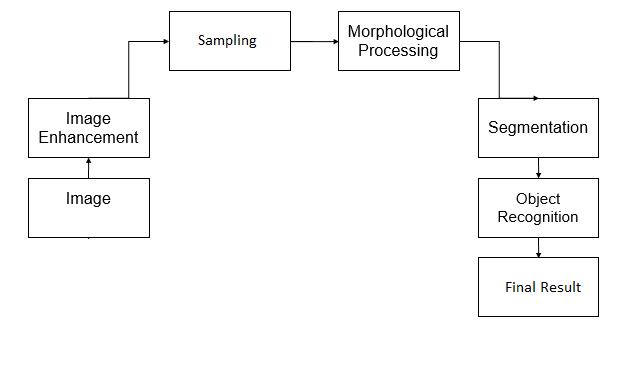arrow: (461, 39, 537, 101), (126, 37, 172, 97), (292, 37, 339, 48), (84, 157, 94, 178), (534, 158, 543, 178), (535, 239, 542, 257)
process: (24, 95, 152, 160), (167, 9, 294, 73), (336, 9, 463, 73), (475, 96, 601, 160), (26, 176, 153, 239), (476, 255, 601, 319), (476, 176, 601, 239)
text: (346, 23, 450, 61), (37, 110, 138, 146), (497, 192, 580, 226), (486, 119, 589, 137), (502, 280, 581, 293), (195, 34, 259, 48), (64, 190, 111, 209)
